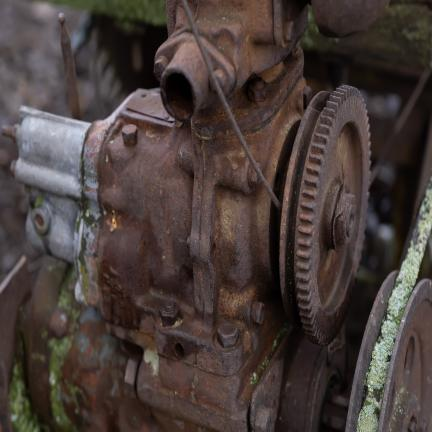besi_tidak_karat: (12, 90, 89, 263)
karat: (85, 0, 379, 431)
